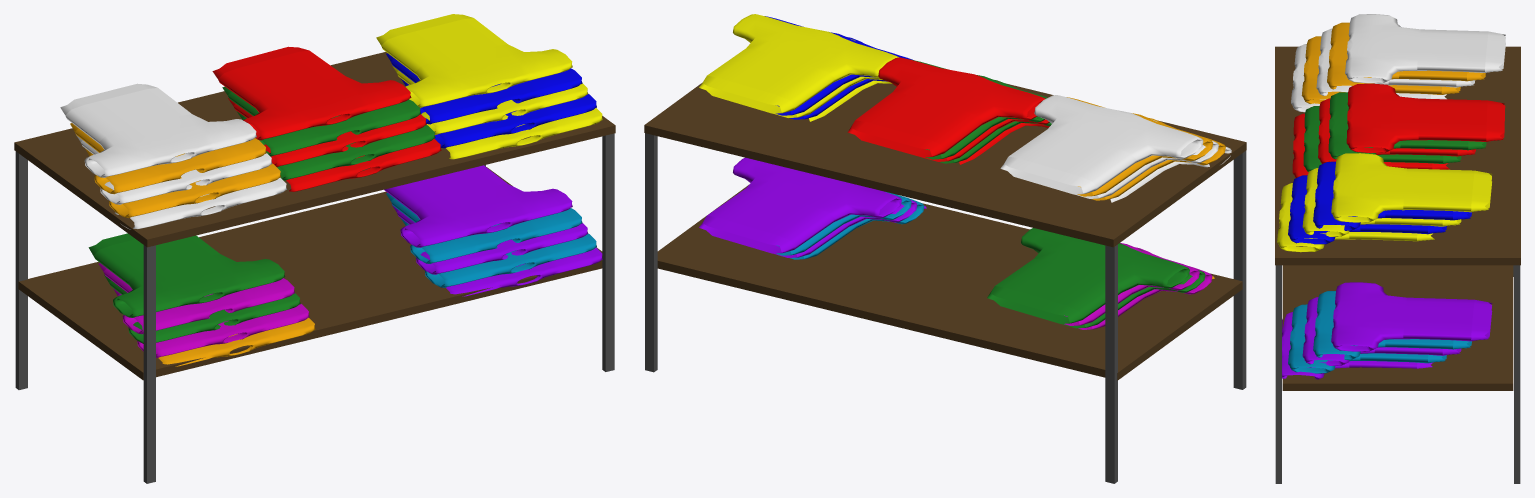
File: ClothesCounter3.fbx
The picture shows the model from 3 angles, left to right: view 1: azimuth 30°, elevation 25°; view 2: azimuth 150°, elevation 25°; view 3: azimuth 270°, elevation 25°; orthographic projection. The views are drawn at different scales.
Visible parts, largest first — view 1: polySurface87; view 2: polySurface87; view 3: polySurface87.
Part boxes in pixels (x1,y1,x2,y2): polySurface87: (14,14,615,483); polySurface87: (644,14,1246,483); polySurface87: (1275,14,1520,483).
Size of the model in its own units: 2.04 by 1.19 by 1.
